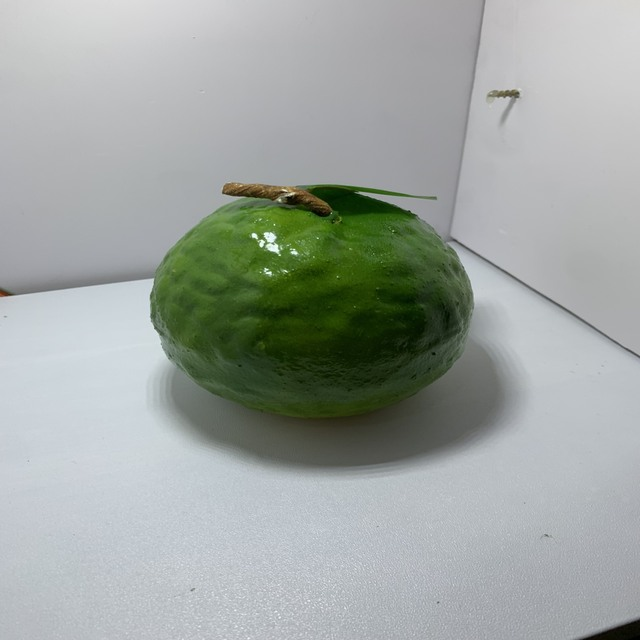Cam xanh: (145, 180, 482, 426)
